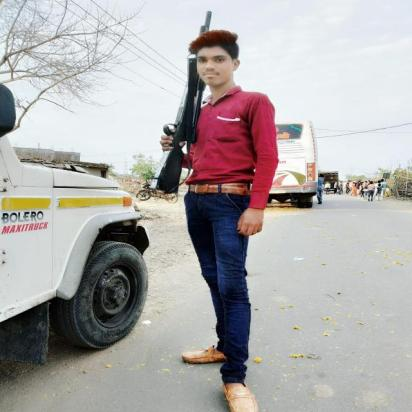Gun: (146, 9, 213, 196)
